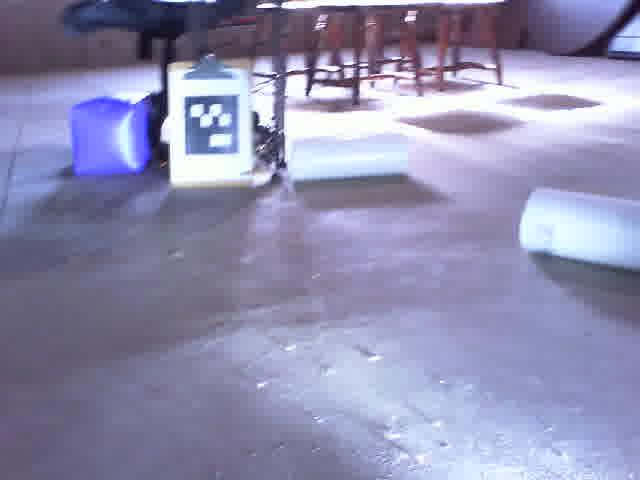coral: (521, 186, 640, 274), (289, 132, 408, 180)
